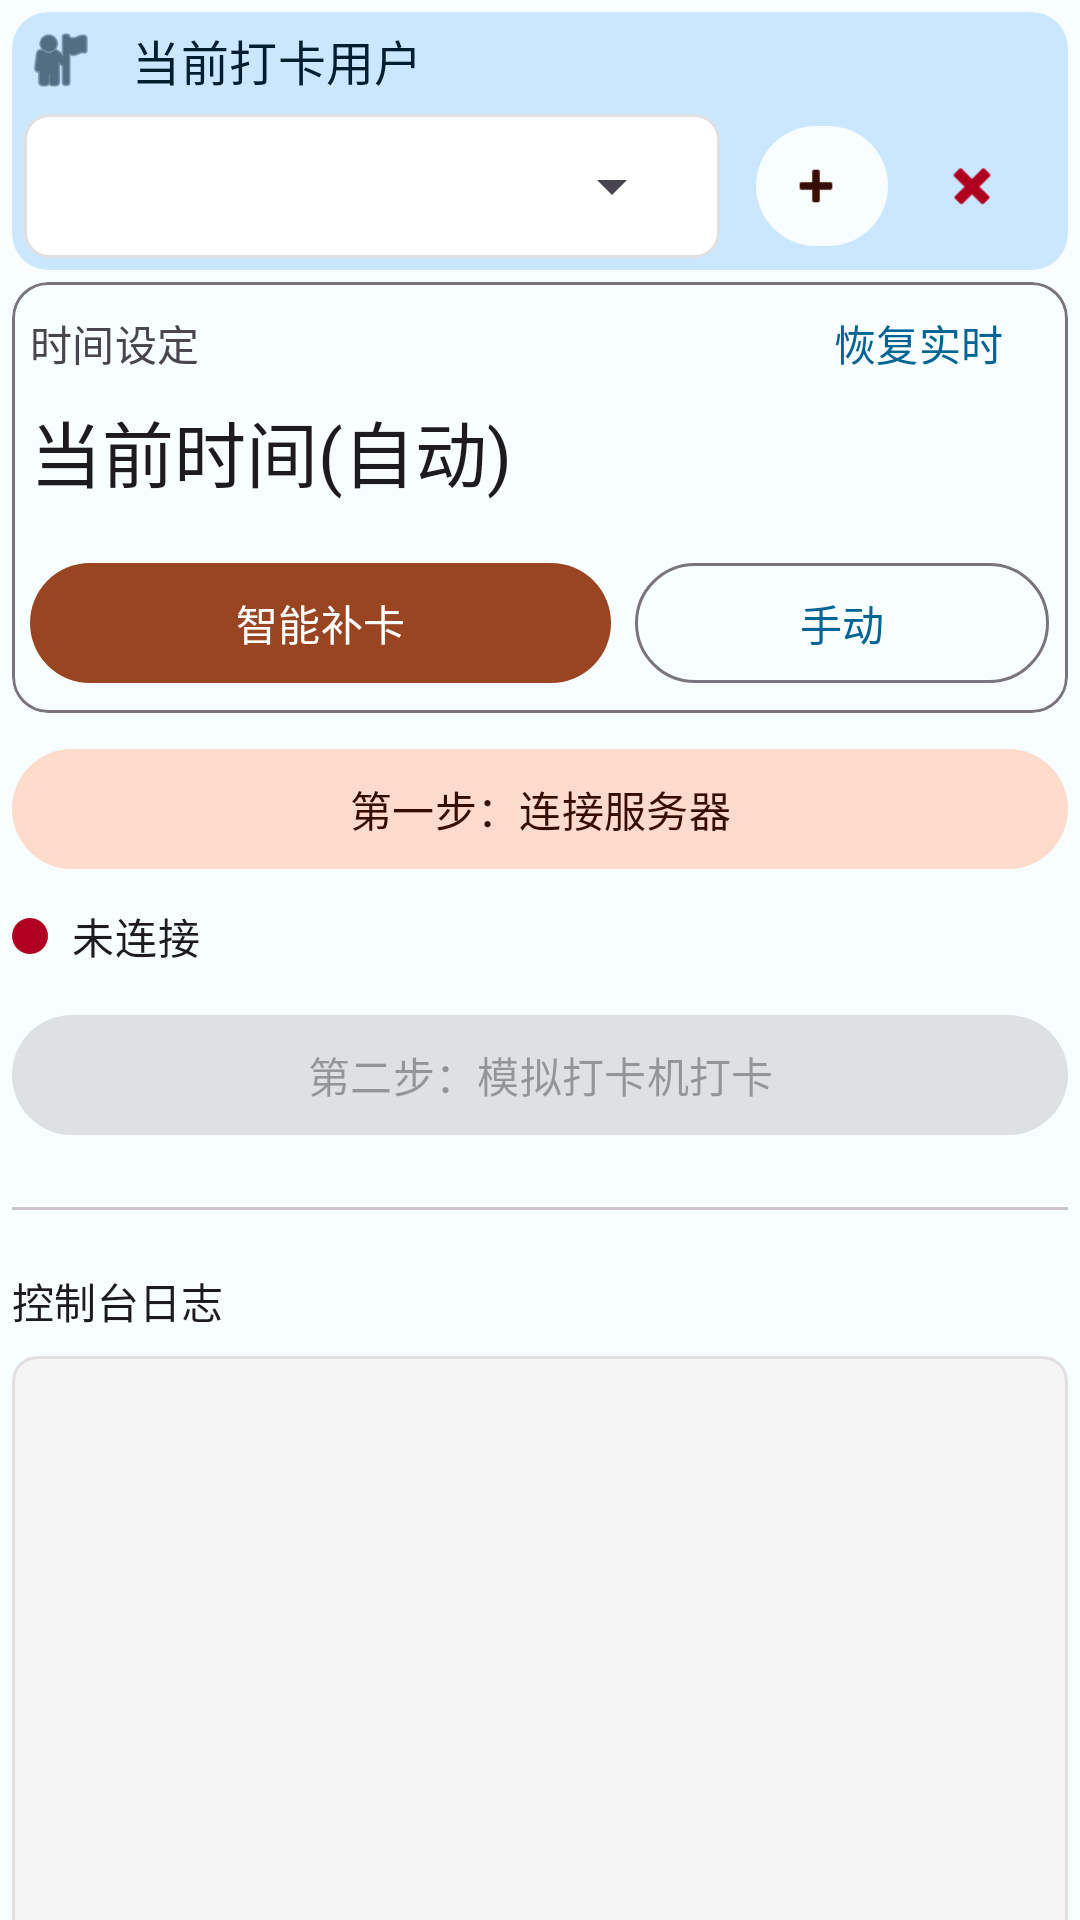

Point at icon controls on the screen. Image size 1080*1920, points as point (x, y).
add: point (822, 186)
delete: point (972, 186)
myplaces: point (61, 60)
